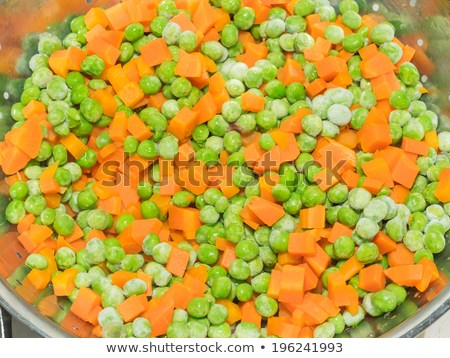boiled peas: (33, 16, 426, 318)
